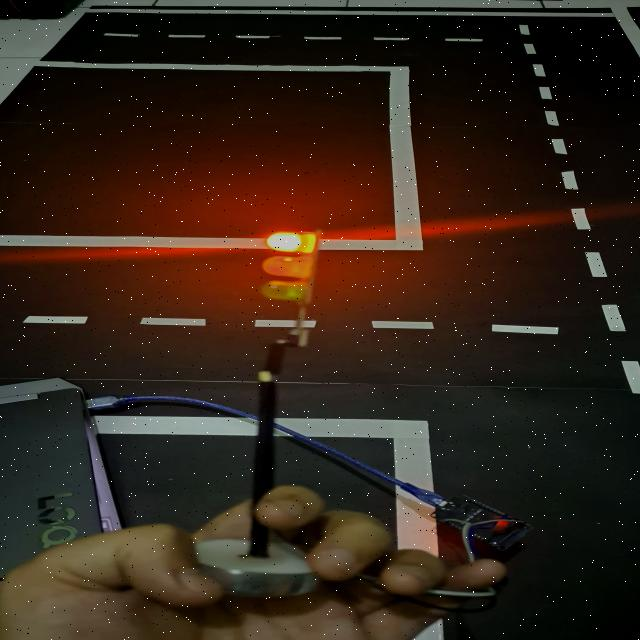Lampu Merah: (261, 229, 321, 303)
